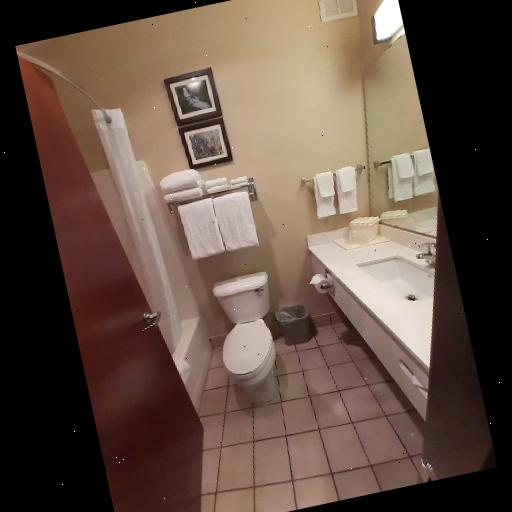clean_floor: (196, 317, 422, 512)
clean_sink: (304, 215, 442, 415)
folded_towel: (177, 191, 260, 261), (306, 168, 344, 223), (156, 165, 202, 205), (330, 164, 365, 216), (202, 174, 248, 196)
